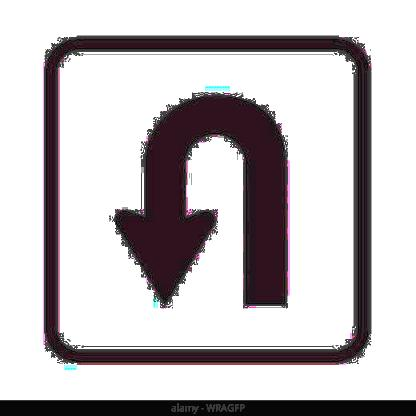U-turn: (66, 51, 352, 352)
